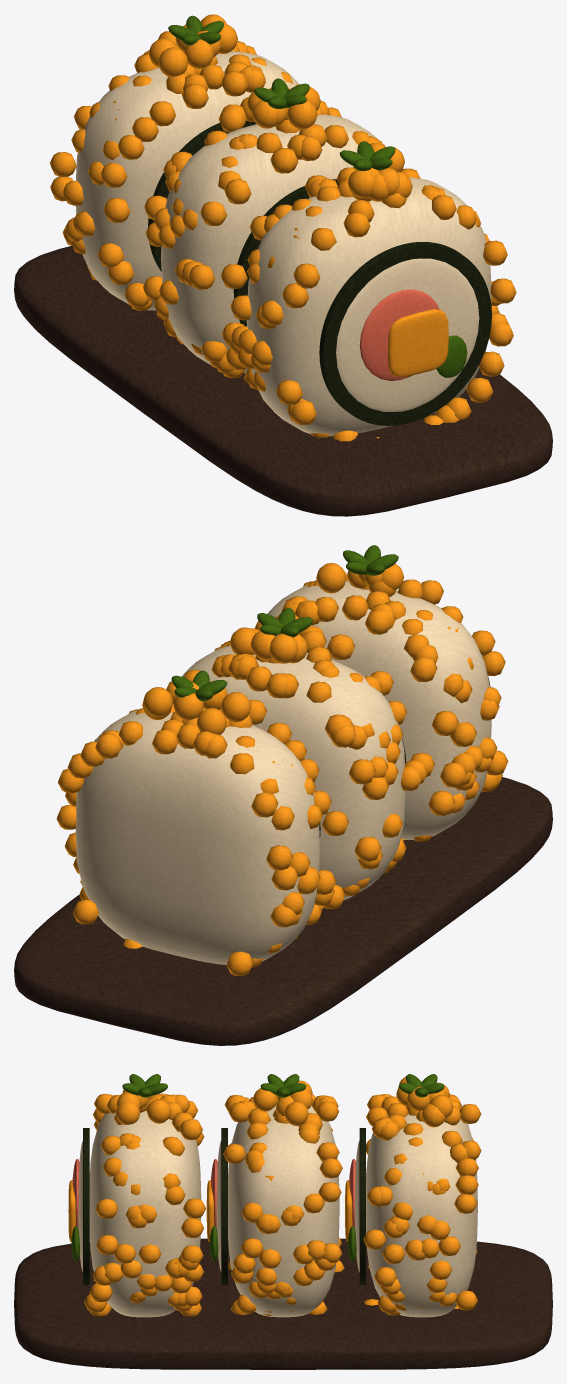
File: 08-tempura-roll.glb
The picture shows the model from 3 angles, top to bottom: view 1: azimuth 30°, elevation 25°; view 2: azimuth 150°, elevation 25°; view 3: azimuth 270°, elevation 25°; orthographic projection. The views are drawn at different scales.
Parts seen in each view (by area): view 1: Warm ivory rice, Crispy tempura, Cocoa speckled pottery, Nori seaweed, Fresh leaf, Peach blossom glaze; view 2: Warm ivory rice, Cocoa speckled pottery, Crispy tempura, Fresh leaf; view 3: Cocoa speckled pottery, Warm ivory rice, Crispy tempura, Nori seaweed, Fresh leaf, Peach blossom glaze.
Boxes of the visible parts, box(x1,y1,x2,y2) form: Warm ivory rice: box(75, 51, 491, 436); Crispy tempura: box(50, 14, 516, 441); Cocoa speckled pottery: box(14, 246, 552, 516); Nori seaweed: box(148, 120, 491, 425); Fresh leaf: box(168, 15, 467, 377); Peach blossom glaze: box(359, 289, 439, 380); Warm ivory rice: box(75, 581, 491, 964); Cocoa speckled pottery: box(14, 777, 552, 1045); Crispy tempura: box(56, 563, 508, 976); Fresh leaf: box(171, 545, 398, 701); Cocoa speckled pottery: box(14, 1238, 552, 1369); Warm ivory rice: box(78, 1102, 477, 1317); Crispy tempura: box(68, 1076, 481, 1316); Nori seaweed: box(83, 1128, 365, 1284); Fresh leaf: box(71, 1074, 444, 1262); Peach blossom glaze: box(72, 1159, 355, 1228).
Size of the model in its own units: 0.023 by 0.0225 by 0.046.
Materials: 6 (6 with a texture image).
